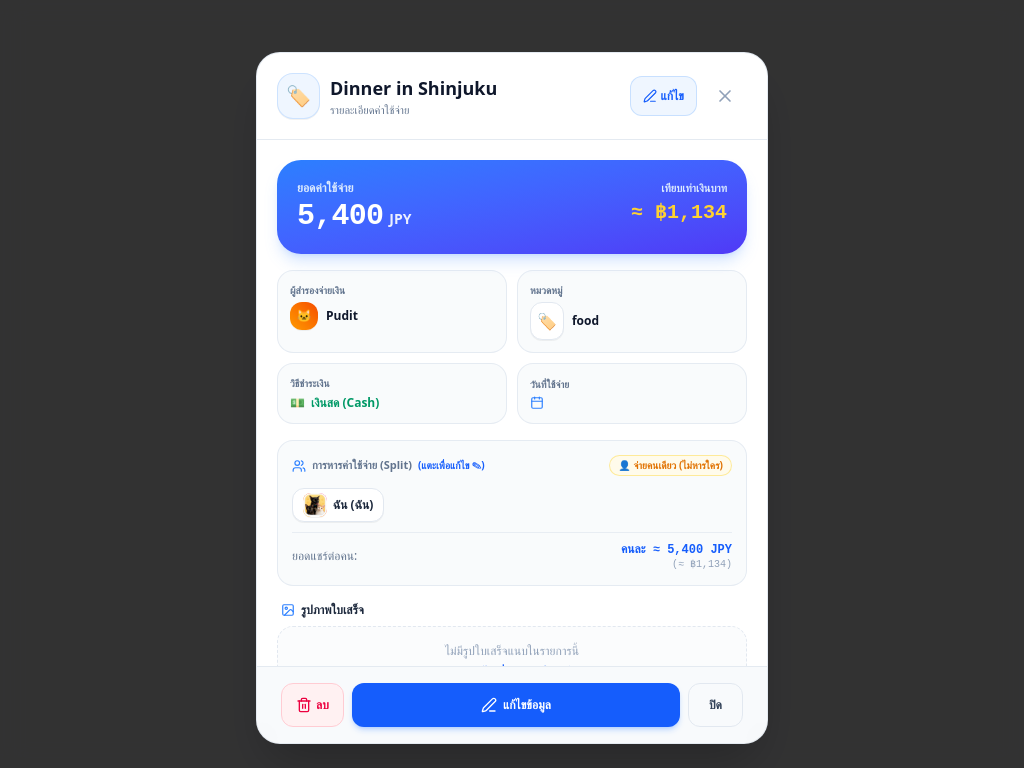
Test: Mobile & iPad Responsive UI & Modal Tests › ExpenseDetailModal: switching to Edit mode keeps submit button accessible in sticky safe-area footer
Click Edit button
Click the button titled "แก้ไขข้อมูล": (663, 96) [630,76,697,116]
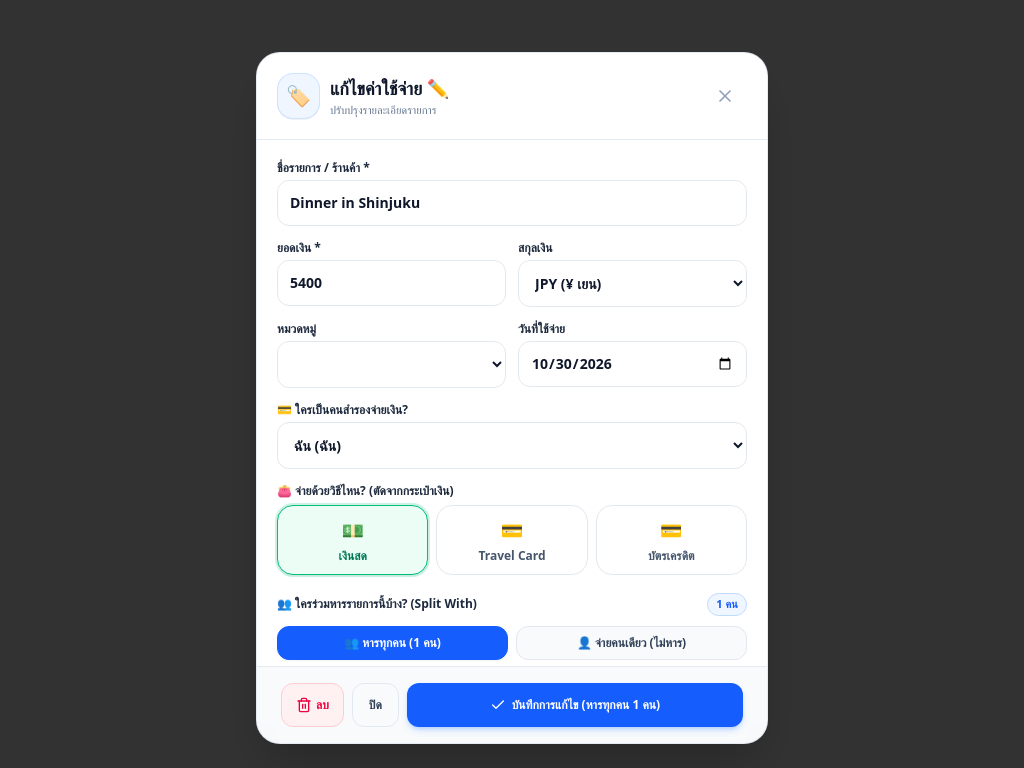
Check: the button "บันทึกการแก้ไข (หารทุกคน 1 คน)" is shown, box [407,683,743,727]
Check: the form with id "edit-expense-form" is shown, box [277,160,747,666]
Check: the field holds "Dinner in Shinjuku", box [277,180,747,226]
